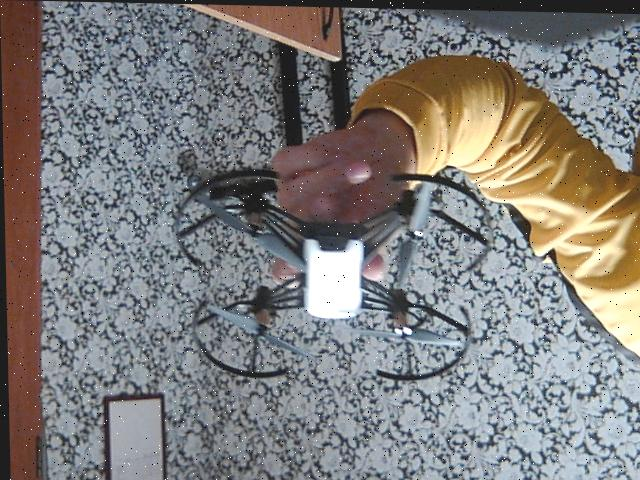drone: (169, 161, 502, 398)
